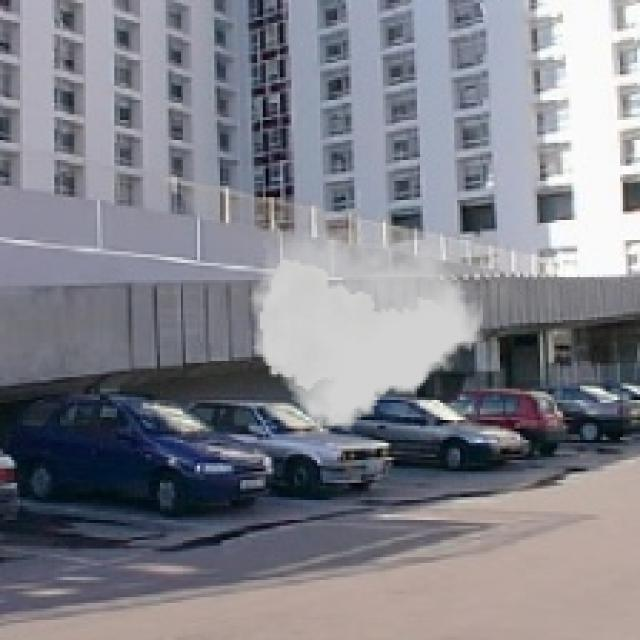smoke: (248, 228, 483, 428)
